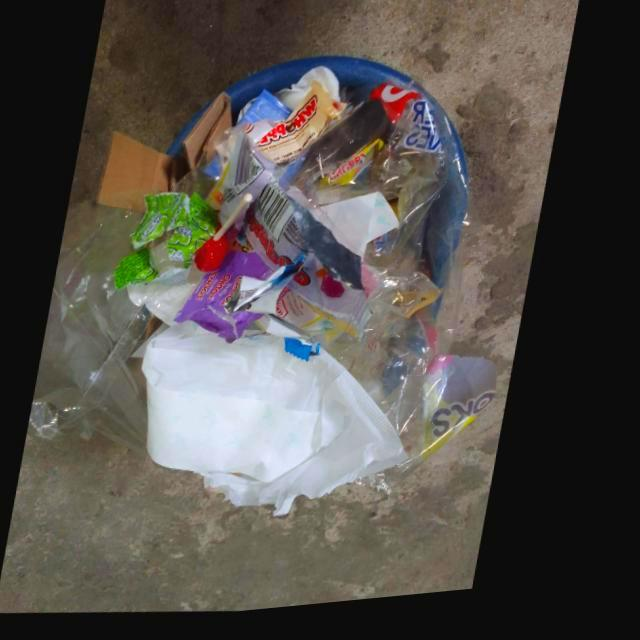cardboard: (101, 132, 175, 211), (186, 96, 235, 172)
food_wrapper: (223, 141, 373, 322), (119, 195, 226, 293), (249, 86, 350, 168)
paper: (148, 323, 419, 523)
plastic_bag: (263, 89, 506, 504), (38, 198, 160, 460)
